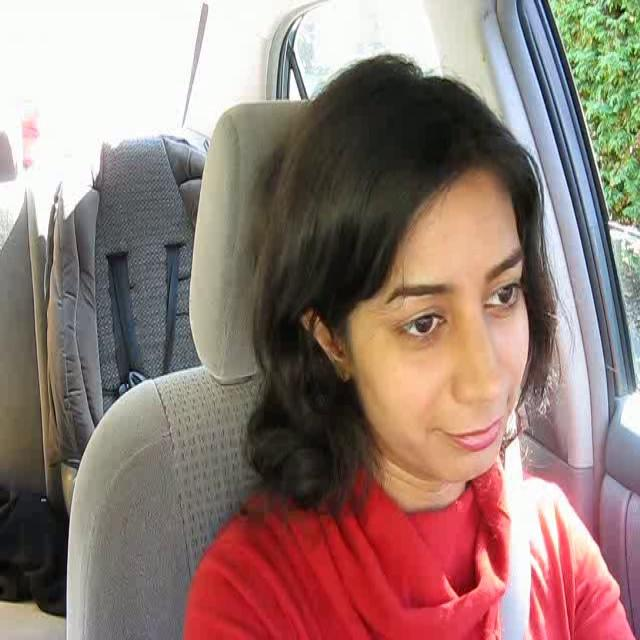close: (443, 408, 510, 455)
